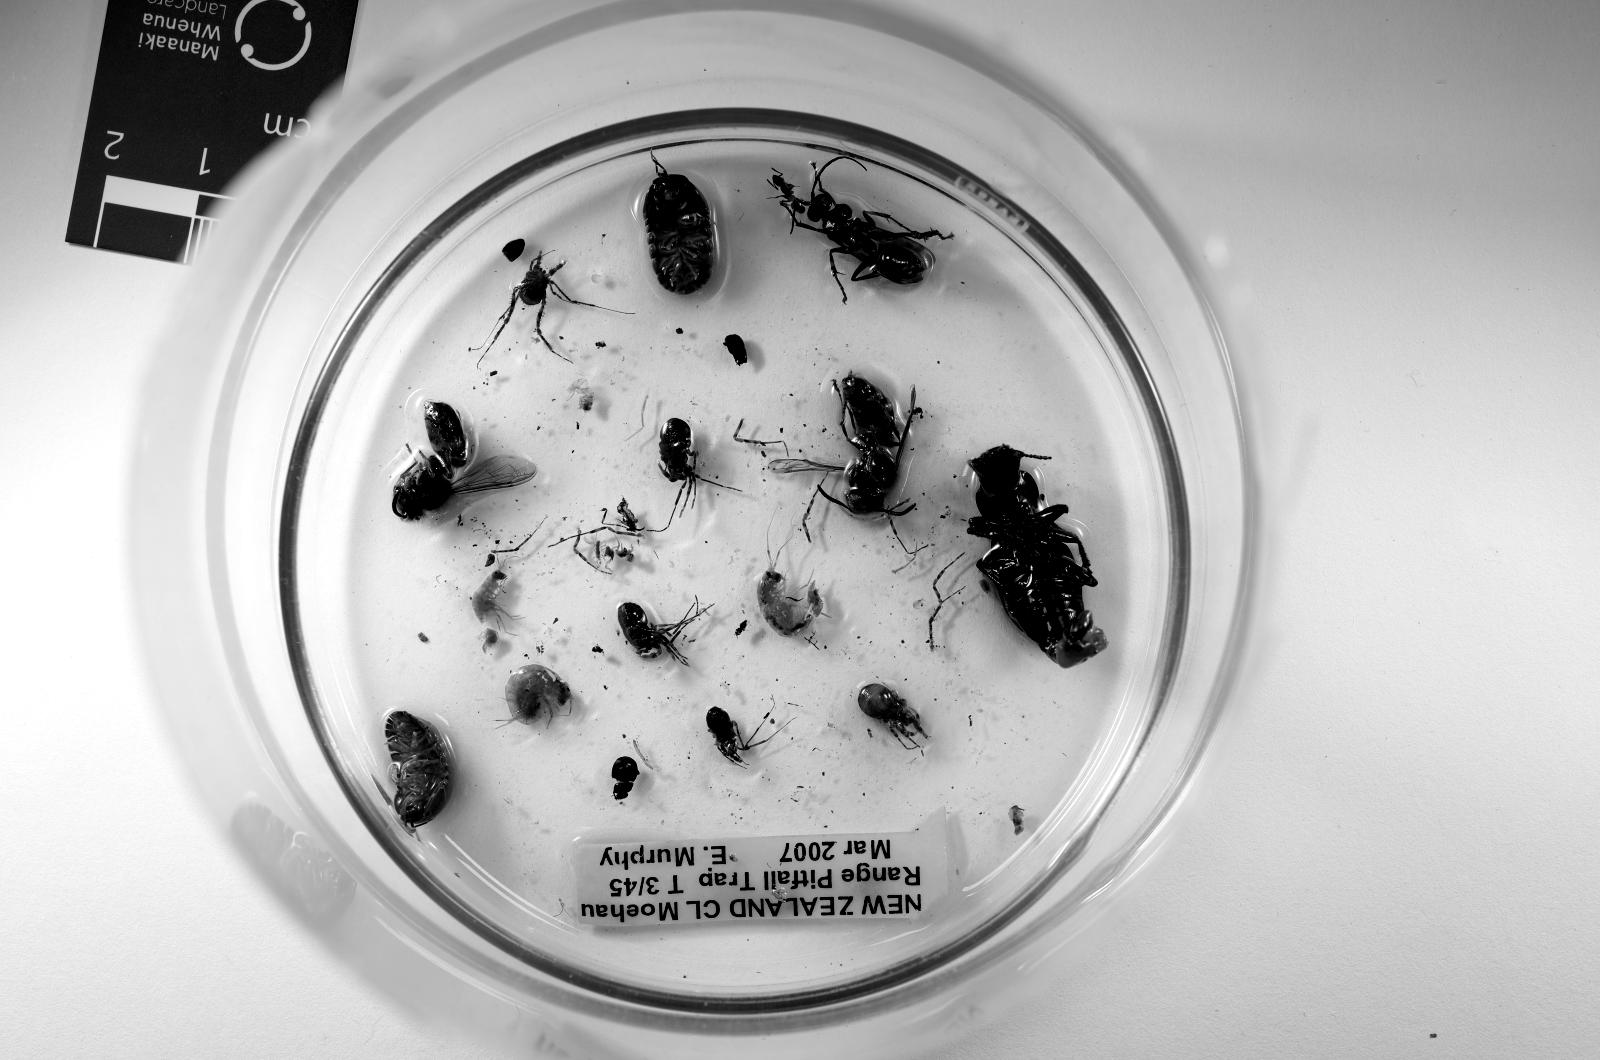amphipoda: (756, 556, 822, 637), (506, 665, 572, 724), (472, 571, 512, 630)
carabidae: (969, 444, 1106, 668)
coleoptera: (609, 758, 641, 801), (725, 335, 747, 363)
formicidae: (769, 171, 806, 233)
hymenoptera: (797, 168, 950, 286)
isopoda: (644, 158, 712, 295), (384, 711, 450, 826)
opiliones: (491, 252, 584, 345), (619, 599, 706, 665), (859, 683, 925, 748), (659, 419, 700, 506), (706, 708, 750, 764)
vespidae: (769, 373, 922, 516), (391, 401, 534, 522)
